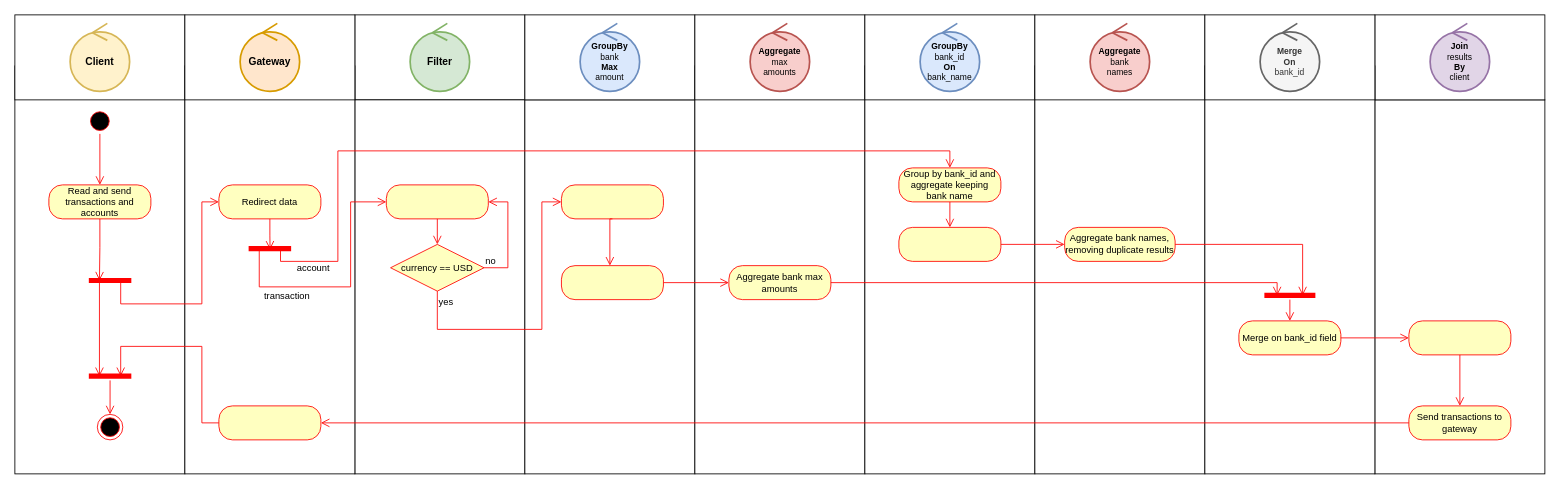
Some shapes in this 1560 by 489 pixel diagram are drawn without their labels. Each missing label, with the box of its shape:
Format response: (1408, 320, 1511, 355)
Group by bank and aggregate with max amount: (561, 184, 663, 219)
Handle incoming transaction: (385, 184, 488, 219)
Redirect response to client: (218, 405, 321, 440)
Route by bank: (561, 265, 663, 300)
Route by bank_id: (898, 227, 1001, 261)
